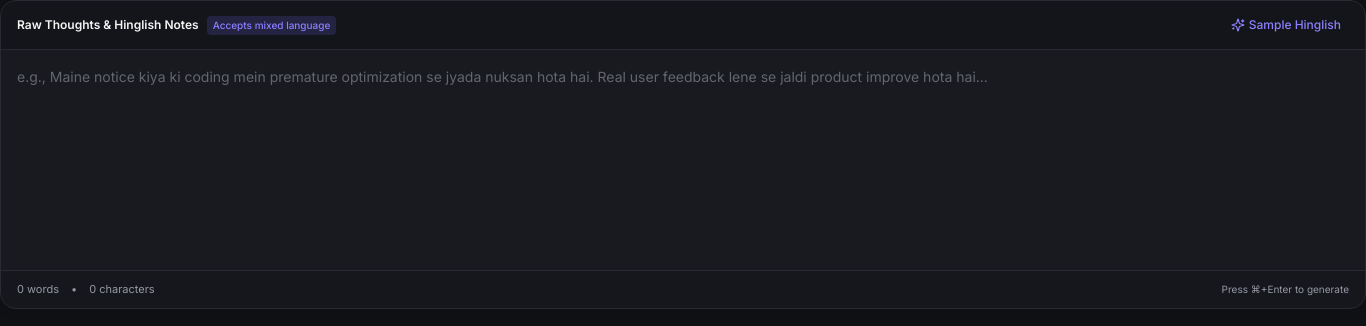
UI Primitives › WritingEditor renders character and word count accurately
This screenshot has width=1366, height=326.
Step 1. Replace the text in the text box with "Hello world from Prosely" → point(683, 157), box x1=17 y1=66 x2=1349 y2=248
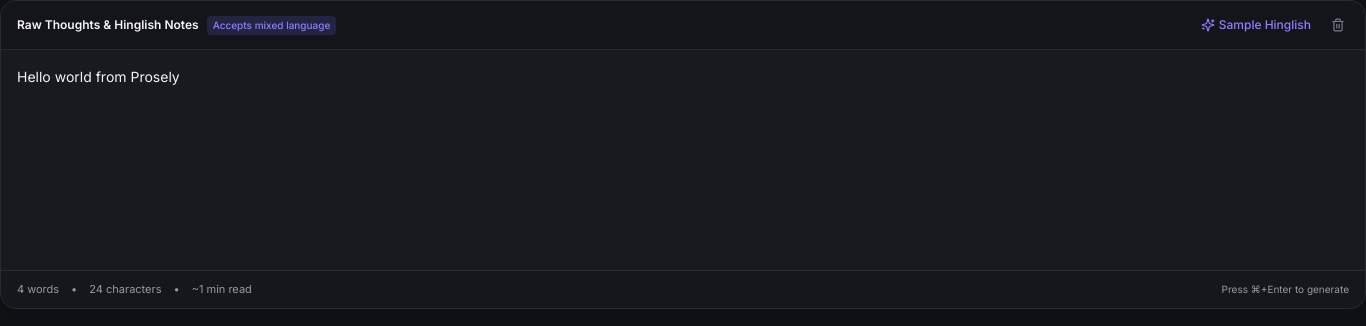
Expected: the text "4 words" is shown, x1=17 y1=281 x2=59 y2=298
Expected: the text "24 characters" is shown, x1=89 y1=281 x2=162 y2=298
